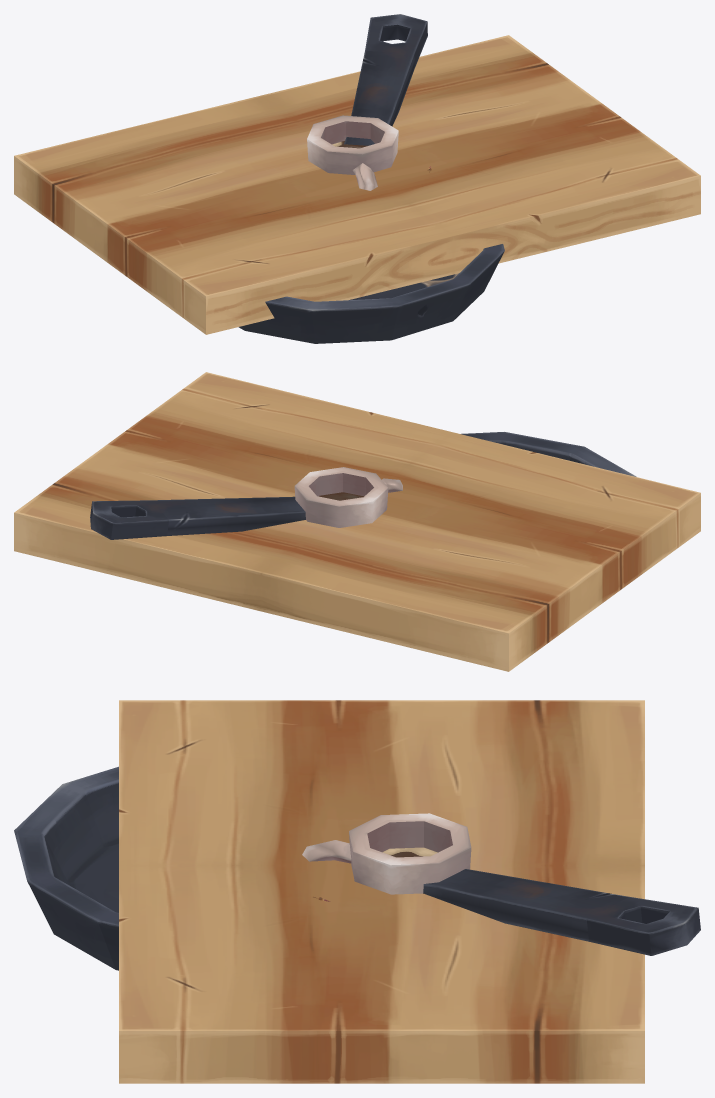
File: breakfast.glb
The picture shows the model from 3 angles, top to bottom: view 1: azimuth 30°, elevation 25°; view 2: azimuth 150°, elevation 25°; view 3: azimuth 270°, elevation 25°; orthographic projection. The views are drawn at different scales.
Parts seen in each view (by area): view 1: cutting_board, frypan, coffee_cup; view 2: cutting_board, frypan, coffee_cup; view 3: cutting_board, frypan, coffee_cup.
Boxes of the visible parts, bbox=[...] form: cutting_board: bbox=[14, 35, 700, 334]; frypan: bbox=[238, 14, 504, 343]; coffee_cup: bbox=[307, 115, 398, 190]; cutting_board: bbox=[14, 372, 700, 671]; frypan: bbox=[90, 432, 636, 539]; coffee_cup: bbox=[294, 467, 402, 527]; cutting_board: bbox=[119, 700, 644, 1083]; frypan: bbox=[14, 766, 700, 970]; coffee_cup: bbox=[302, 813, 471, 894].
Bounding box in the file's own units: 3.87 × 0.7885 × 3.4.
Materials: 2 (2 with a texture image).
